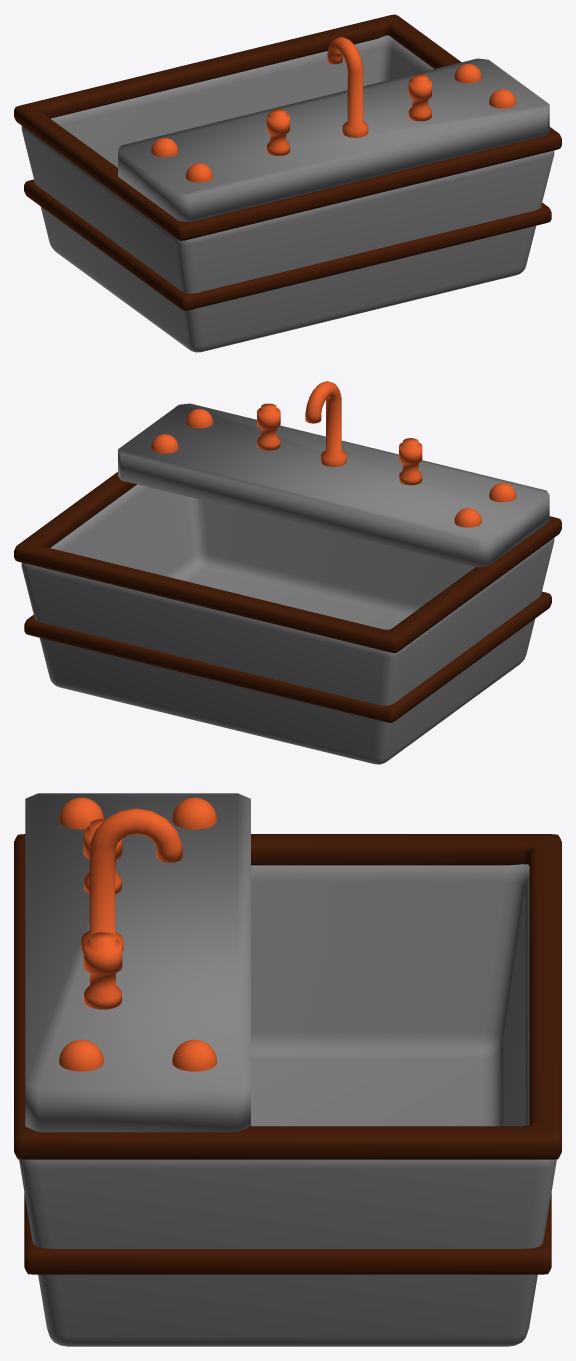
Rendered from sink.fbx.
The picture shows the model from 3 angles, top to bottom: view 1: azimuth 30°, elevation 25°; view 2: azimuth 150°, elevation 25°; view 3: azimuth 270°, elevation 25°; orthographic projection. The views are drawn at different scales.
Visible parts, largest first — view 1: Box041去001, Box105, 组005, Cylinder130, Cylinder131, Sphere025, Sphere023, Sphere026, Sphere024; view 2: Box041去001, Box105, 组005, Cylinder131, Cylinder130; view 3: Box041去001, Box105, 组005, Cylinder130, Sphere026, Sphere023, Sphere024, Sphere025, Cylinder131.
Part boxes in pixels (<box>): Box041去001: <box>21,35,554,352</box>; Box105: <box>118,58,549,222</box>; 组005: <box>14,14,561,310</box>; Cylinder130: <box>408,74,431,121</box>; Cylinder131: <box>266,109,289,155</box>; Sphere025: <box>185,163,212,182</box>; Sphere023: <box>454,63,481,83</box>; Sphere026: <box>489,89,516,108</box>; Sphere024: <box>151,138,178,157</box>; Box041去001: <box>21,484,554,764</box>; Box105: <box>118,403,549,567</box>; 组005: <box>14,381,561,722</box>; Cylinder131: <box>399,438,422,485</box>; Cylinder130: <box>257,403,280,450</box>; Box041去001: <box>19,864,556,1346</box>; Box105: <box>25,793,250,1132</box>; 组005: <box>14,808,561,1274</box>; Cylinder130: <box>83,932,122,1009</box>; Sphere026: <box>59,1039,103,1071</box>; Sphere023: <box>172,1039,216,1071</box>; Sphere024: <box>172,797,216,829</box>; Sphere025: <box>59,797,103,829</box>; Cylinder131: <box>83,819,122,893</box>.
Size of the model in its own units: 32.2 by 20.51 by 24.35.
